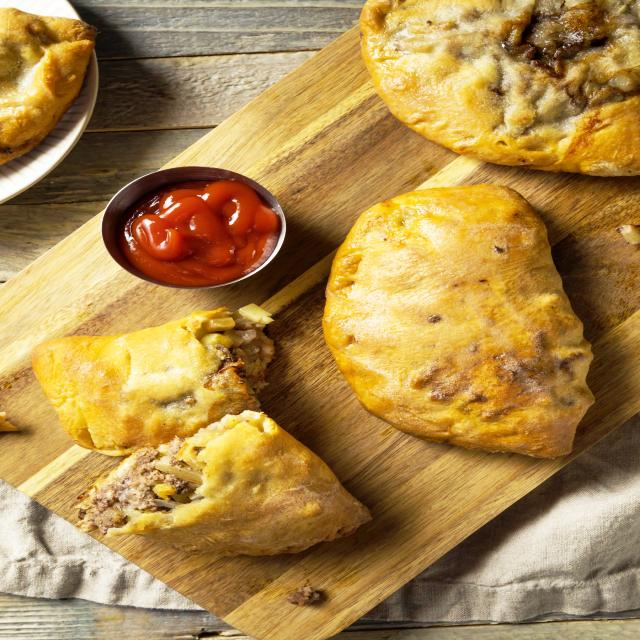ketchup: (106, 172, 286, 290)
